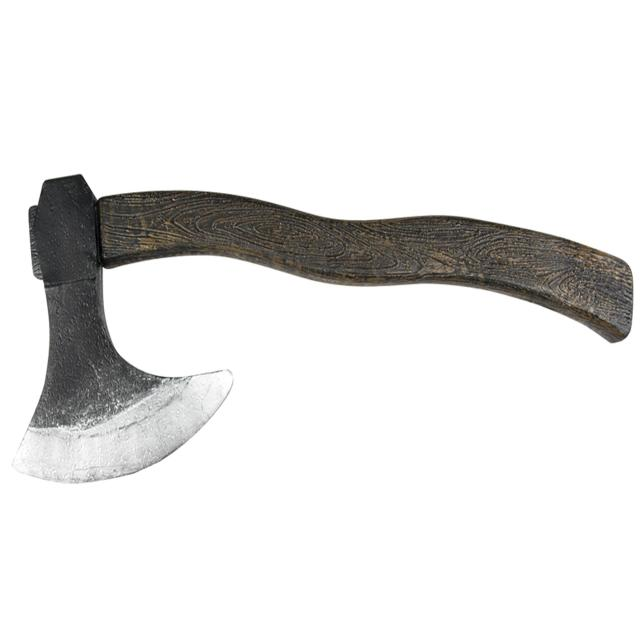Kapak: (20, 166, 635, 486)
